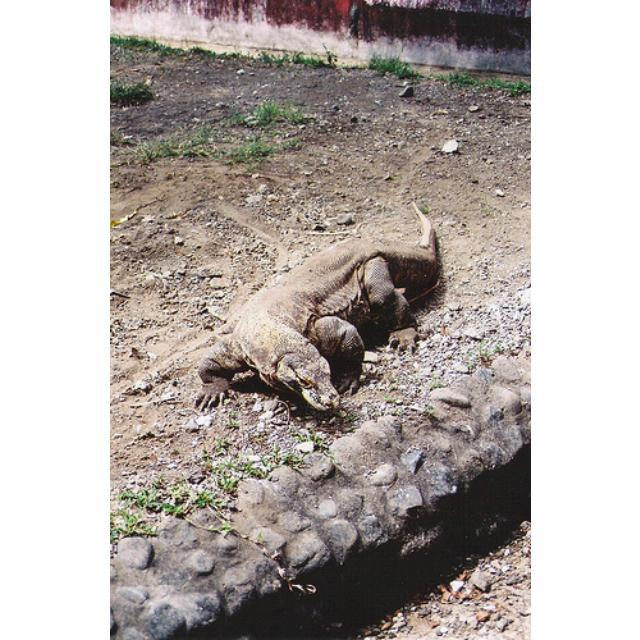KomodoDragon: (198, 198, 442, 411)
